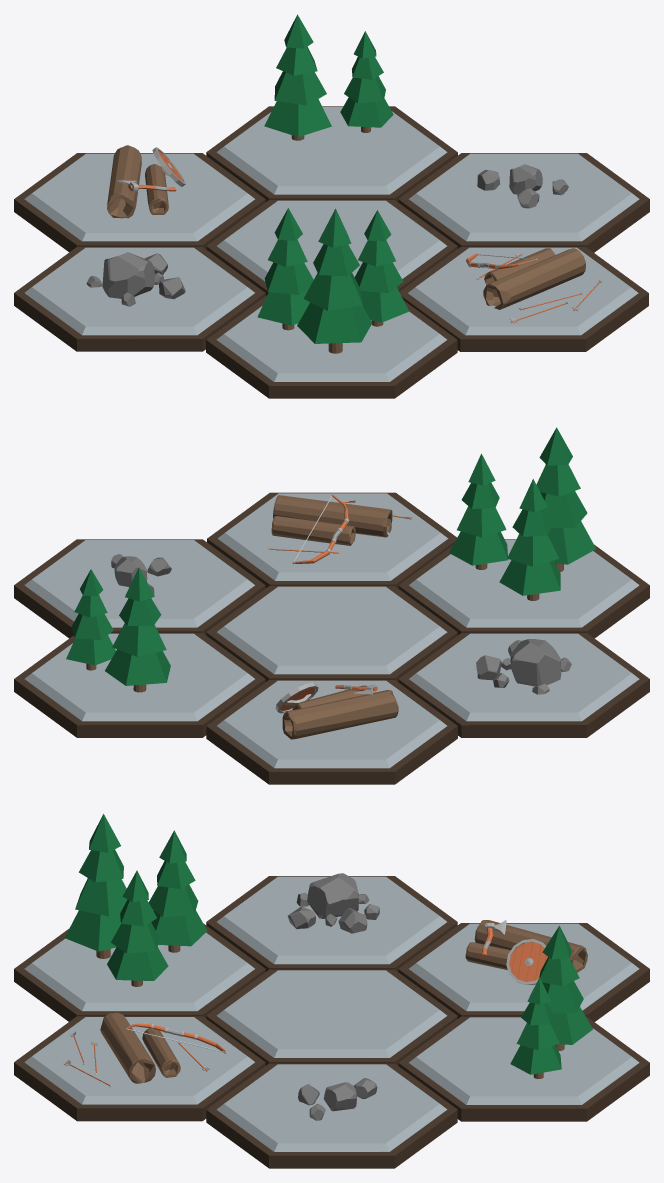
The model's file is WinterEnvironment.gltf.
3 renders of one model, top to bottom at view 1: azimuth 30°, elevation 25°; view 2: azimuth 150°, elevation 25°; view 3: azimuth 270°, elevation 25°, orthographic.
Visible parts, largest first — view 1: hexagon.005, hexagon.006, hexagon.004, hexagon.003, hexagon.001, hexagon.002, hexagon.007, Leaves.002, Leaves.001, Leaves.005, Leaves.004, Trunks.001 (+6 smaller); view 2: hexagon.007, hexagon.005, hexagon.001, hexagon.003, hexagon.006, hexagon.002, hexagon.004, Leaves.001, Leaves.002, Leaves.005, Leaves.004, Trunks (+9 smaller); view 3: hexagon.006, hexagon.007, hexagon.003, hexagon.004, hexagon.005, hexagon.002, hexagon.001, Leaves.002, Leaves.005, Leaves.004, Leaves.001, Leaves.003 (+9 smaller).
Part boxes in pixels (x1,y1,x2,y2): hexagon.005: (14,247,265,351); hexagon.006: (398,153,649,252); hexagon.004: (399,247,648,351); hexagon.003: (206,106,457,201); hexagon.001: (14,153,265,252); hexagon.002: (206,295,457,398); hexagon.007: (206,200,457,295); Leaves.002: (297,208,372,353); Leaves.001: (264,14,331,140); Leaves.005: (257,208,313,330); Leaves.004: (354,210,409,326); Trunks.001: (483,248,585,309); hexagon.007: (206,586,457,681); hexagon.005: (398,633,649,737); hexagon.001: (206,680,457,784); hexagon.003: (14,633,265,737); hexagon.006: (14,539,265,638); hexagon.002: (398,539,649,638); hexagon.004: (207,492,456,588); Leaves.001: (105,567,170,692); Leaves.002: (536,427,595,572); Leaves.005: (499,479,560,600); Leaves.004: (449,453,508,569); Trunks: (282,690,398,739); hexagon.006: (206,1063,457,1168); hexagon.007: (206,969,457,1065); hexagon.003: (398,1016,649,1121); hexagon.004: (14,1016,265,1121); hexagon.005: (206,876,457,971); hexagon.002: (14,923,265,1021); hexagon.001: (398,923,649,1021); Leaves.002: (64,814,127,958); Leaves.005: (149,830,207,952); Leaves.004: (107,870,168,986); Leaves.001: (539,925,592,1050); Leaves.003: (510,977,561,1078).
Size of the model in its own units: 27.73 by 7.45 by 26.64.
8 materials, 2 textured.
